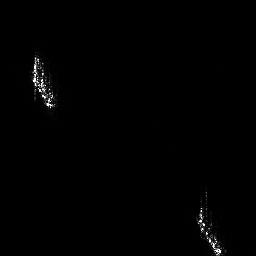ship: (196, 189, 224, 256), (31, 54, 57, 110)
